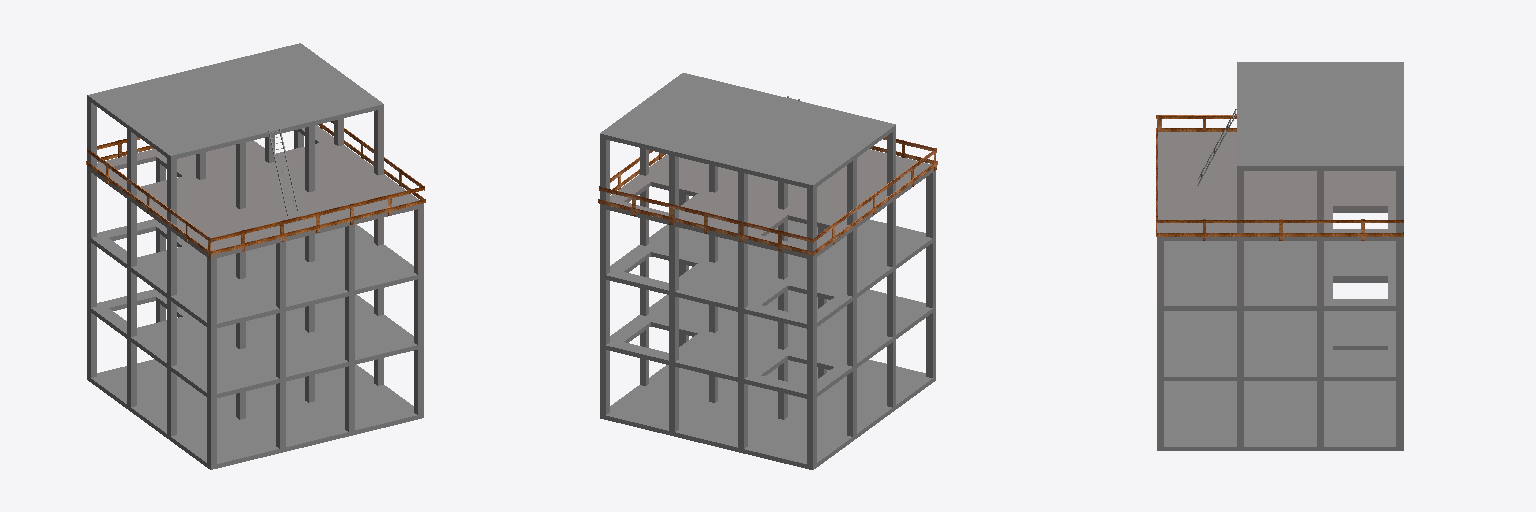
The picture shows the model from 3 angles: view 1: azimuth 30°, elevation 25°; view 2: azimuth 150°, elevation 25°; view 3: azimuth 270°, elevation 25°; orthographic projection.
Parts seen in each view (by area): view 1: Mesh54, Mesh43, Mesh24, Mesh10, Mesh11, Box004, Box005, Mesh5, Mesh61, Mesh1, Mesh3, Mesh9 (+22 smaller); view 2: Mesh54, Mesh24, Mesh11, Mesh10, Mesh43, Box004, Box005, Mesh18, Mesh28, Mesh40, Mesh33, Mesh37 (+21 smaller); view 3: Mesh54, Mesh24, Mesh43, Mesh10, Mesh11, Box005, Box004, Mesh23, Mesh36.
Part boxes in pixels (x1,y1,x2,y2): Mesh54: (87, 43, 383, 159); Mesh43: (87, 125, 423, 259); Mesh24: (87, 359, 423, 469); Mesh10: (87, 219, 423, 329); Mesh11: (87, 289, 423, 399); Box004: (87, 121, 424, 250); Box005: (86, 124, 425, 258); Mesh5: (207, 258, 216, 325); Mesh61: (207, 398, 216, 465); Mesh1: (207, 328, 216, 395); Mesh3: (414, 278, 423, 344); Mesh9: (345, 365, 354, 431); Mesh54: (600, 73, 895, 189); Mesh24: (600, 360, 935, 469); Mesh11: (600, 289, 935, 399); Mesh10: (600, 219, 935, 329); Mesh43: (600, 149, 935, 259); Box004: (599, 136, 936, 243); Box005: (598, 146, 937, 255); Mesh18: (807, 398, 816, 465); Mesh28: (807, 328, 816, 395); Mesh40: (807, 258, 816, 325); Mesh33: (669, 295, 678, 361); Mesh37: (738, 242, 747, 308); Mesh54: (1237, 62, 1403, 170); Mesh24: (1157, 350, 1403, 450); Mesh43: (1157, 132, 1403, 240); Mesh10: (1157, 210, 1403, 310); Mesh11: (1157, 280, 1403, 380); Box005: (1156, 128, 1403, 240); Box004: (1156, 115, 1403, 232); Mesh23: (1396, 381, 1403, 446); Mesh36: (1396, 311, 1403, 376).
Size of the model in its own units: 13737 by 17435 by 13739.
5 materials, 1 textured.